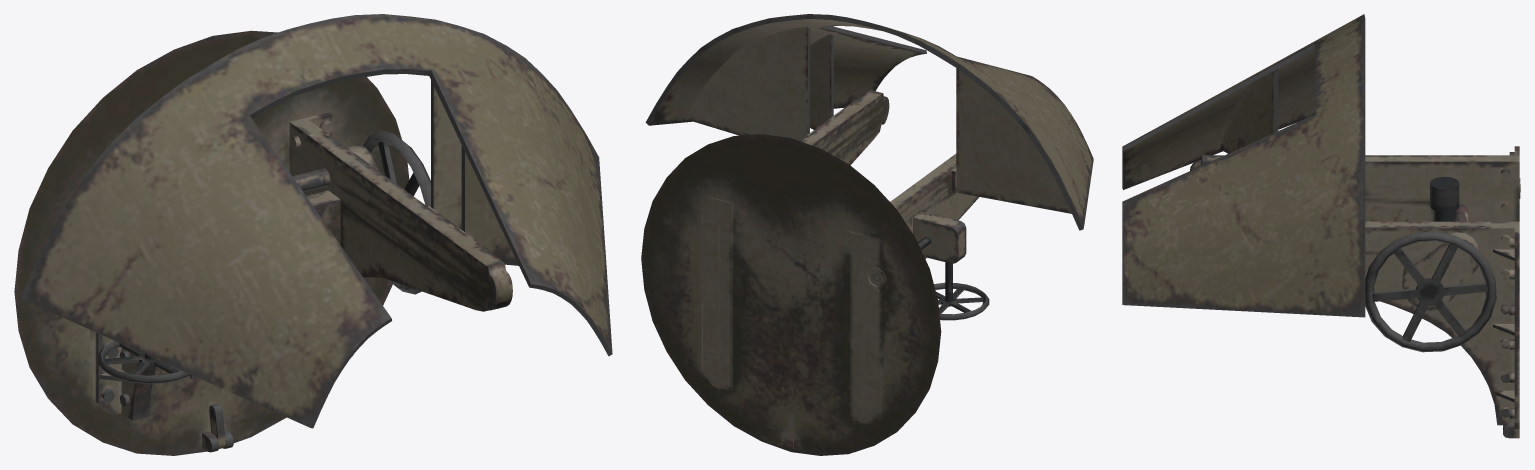
The model's file is Turret_01.glb.
The picture shows the model from 3 angles, left to right: view 1: azimuth 30°, elevation 25°; view 2: azimuth 150°, elevation 25°; view 3: azimuth 270°, elevation 25°; orthographic projection. The views are drawn at different scales.
Visible parts, largest first — view 1: set_0_group_0; view 2: set_0_group_0; view 3: set_0_group_0.
Boxes of the visible parts, box(x1,y1,x2,y2) form: set_0_group_0: box(14, 14, 612, 455); set_0_group_0: box(641, 14, 1093, 455); set_0_group_0: box(1122, 14, 1520, 438).
Bounding box in the file's own units: 1.39 × 1.14 × 1.04.
1 material, 1 textured.
